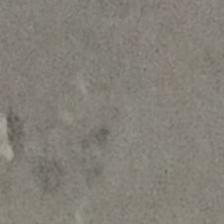Non_Crack: (10, 27, 223, 224)
